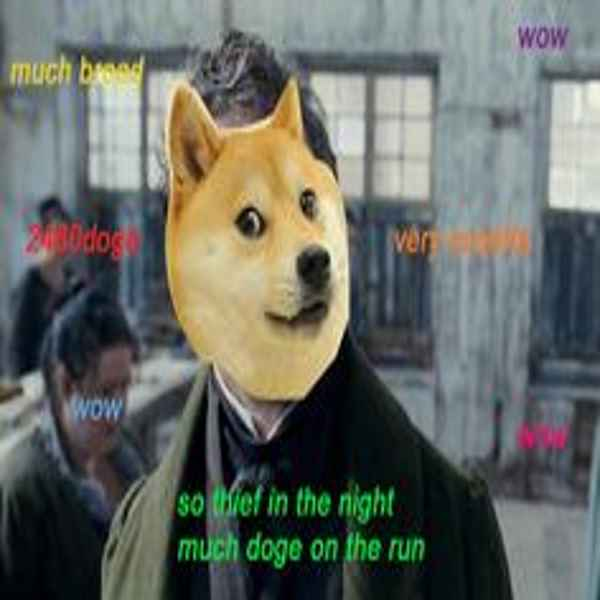doge: (156, 80, 366, 400)
